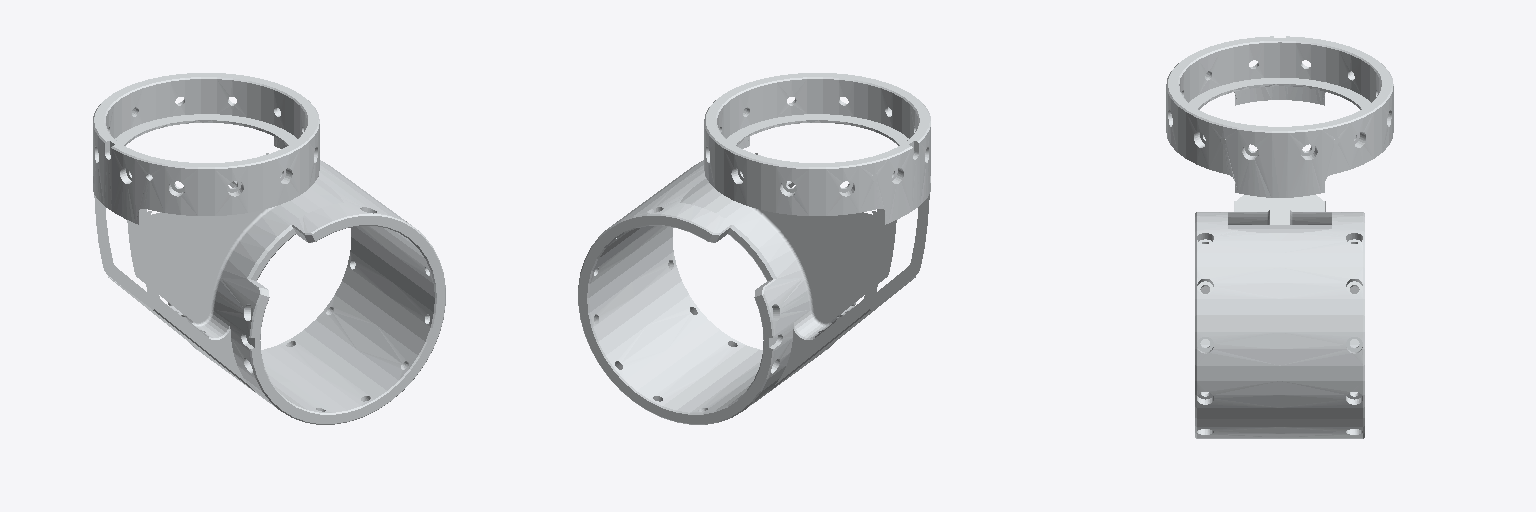
File: R_arm_l1_0.obj
3 views of the same model, side by side, from view 1: azimuth 30°, elevation 25°; view 2: azimuth 150°, elevation 25°; view 3: azimuth 270°, elevation 25° (orthographic).
Bounding box in the file's own units: 0.1189 × 0.1135 × 0.079.